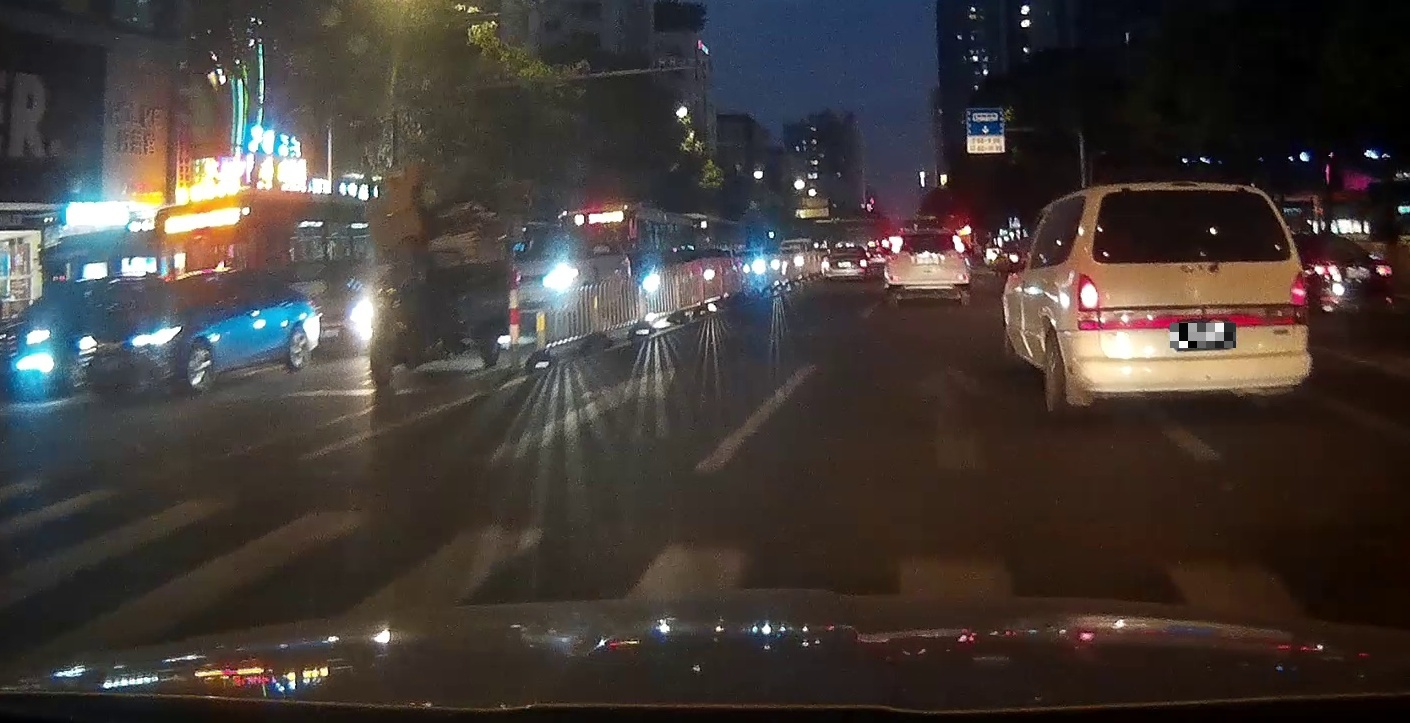L_light: (1078, 273, 1099, 330), (889, 237, 903, 260)
R_light: (1291, 271, 1308, 326), (952, 235, 965, 259)
T_light: (1169, 189, 1204, 198), (920, 233, 935, 239)
night-left: (1075, 182, 1311, 416)
night-no: (884, 229, 970, 305)
plate_1: (1170, 323, 1236, 348)
